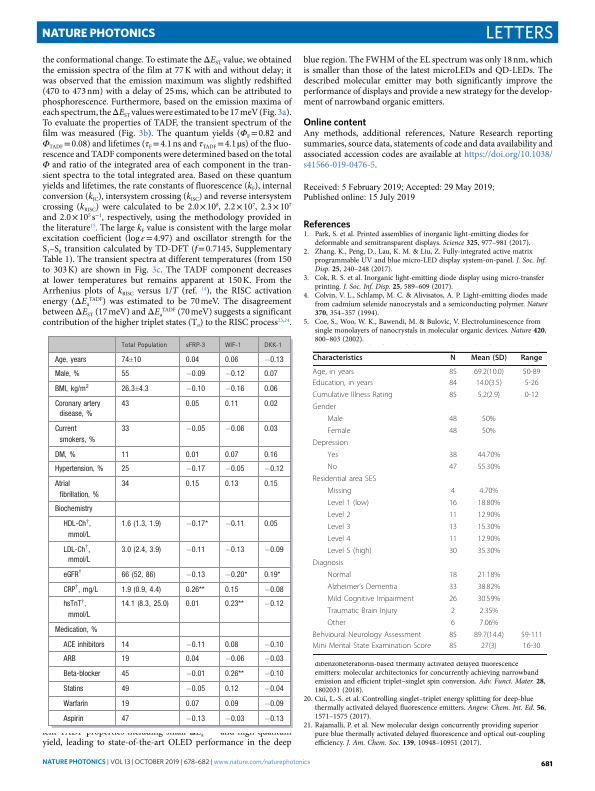bordered: (48, 334, 290, 725)
borderless: (312, 350, 547, 654)
cell: (312, 642, 432, 652), (312, 630, 422, 640), (53, 400, 101, 419), (326, 594, 415, 604), (53, 480, 99, 499), (53, 425, 96, 445), (312, 391, 394, 401), (326, 582, 398, 592), (326, 606, 398, 616), (62, 518, 91, 540), (312, 379, 374, 389), (62, 544, 91, 565), (62, 599, 91, 620), (312, 475, 377, 484), (53, 465, 104, 474), (312, 354, 363, 363), (120, 600, 169, 609), (312, 367, 355, 377), (326, 547, 373, 556), (53, 625, 98, 634), (53, 383, 89, 394), (326, 499, 370, 508), (62, 640, 105, 649), (120, 520, 162, 529), (120, 545, 162, 554), (120, 585, 162, 594), (120, 342, 167, 350), (53, 505, 93, 514), (120, 570, 156, 580), (62, 584, 98, 594), (62, 670, 101, 679), (470, 354, 508, 363), (312, 439, 349, 448), (473, 367, 505, 377), (473, 630, 505, 640), (53, 355, 87, 364), (312, 559, 344, 568), (475, 379, 503, 389), (120, 385, 149, 394), (326, 570, 352, 580), (223, 570, 248, 580), (312, 403, 337, 413), (53, 370, 80, 379), (62, 699, 89, 708), (477, 391, 501, 401), (477, 570, 501, 580), (477, 582, 501, 592), (477, 594, 501, 604), (326, 487, 352, 496), (520, 630, 543, 640), (326, 427, 351, 436), (326, 511, 351, 520), (326, 523, 351, 532), (326, 535, 351, 544), (62, 569, 82, 580), (184, 570, 206, 580), (62, 684, 84, 694), (184, 684, 206, 694), (184, 520, 208, 529), (477, 451, 501, 460), (477, 463, 501, 472), (477, 499, 501, 508), (477, 511, 501, 520), (477, 523, 501, 532), (477, 535, 501, 544), (477, 547, 501, 556), (263, 684, 284, 694), (478, 606, 499, 616), (326, 618, 347, 628), (478, 618, 499, 628), (53, 450, 76, 459), (520, 354, 543, 363), (120, 355, 142, 364), (184, 370, 206, 379), (223, 370, 245, 379), (184, 385, 206, 394), (223, 385, 245, 394), (184, 425, 206, 434), (223, 425, 245, 434), (184, 465, 206, 474), (223, 465, 245, 474), (223, 520, 245, 529), (184, 545, 206, 554), (223, 545, 245, 554), (184, 640, 206, 649), (223, 655, 245, 664), (184, 670, 206, 679), (62, 714, 84, 723), (184, 714, 206, 723), (223, 714, 245, 723), (522, 367, 541, 377), (522, 642, 541, 652), (263, 355, 284, 364), (263, 465, 284, 474), (263, 545, 284, 554), (184, 585, 205, 594), (263, 585, 284, 594), (223, 600, 244, 609), (263, 600, 284, 609), (263, 640, 284, 649), (263, 655, 284, 664), (223, 670, 244, 679), (263, 670, 284, 679), (263, 699, 284, 708), (263, 714, 284, 723), (478, 487, 499, 496), (263, 570, 281, 580), (326, 415, 344, 425), (480, 642, 498, 652), (184, 342, 206, 350), (223, 684, 239, 694), (263, 342, 282, 350), (524, 379, 539, 389), (524, 391, 539, 401), (481, 415, 496, 425), (223, 342, 241, 350), (184, 355, 200, 364), (223, 355, 239, 364), (184, 400, 200, 409), (223, 400, 239, 409), (184, 450, 200, 459), (223, 450, 239, 459), (184, 480, 200, 489), (223, 480, 239, 489), (223, 585, 239, 594), (184, 600, 200, 609), (223, 640, 239, 649), (184, 655, 200, 664), (184, 699, 200, 708), (223, 699, 239, 708), (263, 370, 278, 379), (263, 385, 278, 394), (263, 400, 278, 409), (263, 425, 278, 434), (263, 450, 278, 459), (263, 480, 278, 489), (263, 520, 278, 529), (481, 427, 496, 436), (62, 655, 76, 664), (326, 451, 339, 460), (326, 463, 338, 472), (120, 684, 130, 694), (448, 367, 458, 377), (448, 379, 458, 389), (448, 391, 458, 401), (448, 415, 458, 425), (448, 570, 458, 580), (448, 582, 458, 592), (448, 594, 458, 604), (448, 630, 458, 640), (448, 642, 458, 652), (120, 370, 130, 379), (120, 400, 130, 409), (120, 425, 130, 434), (120, 450, 130, 459), (120, 465, 130, 474), (120, 480, 130, 489), (120, 640, 130, 649), (120, 655, 130, 664), (120, 670, 130, 679), (120, 699, 130, 708), (120, 714, 130, 723), (448, 427, 458, 436), (448, 451, 458, 460), (448, 463, 458, 472), (448, 499, 458, 508), (448, 511, 458, 520), (448, 523, 458, 532), (448, 535, 458, 544), (448, 547, 458, 556), (449, 354, 457, 363), (450, 606, 456, 616), (450, 618, 456, 628), (450, 487, 456, 496)
